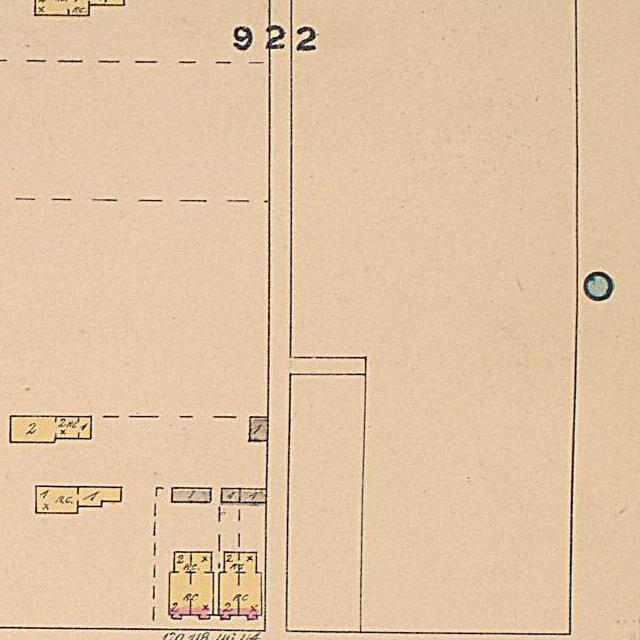building-footprints: (169, 552, 214, 619), (219, 552, 262, 619), (35, 486, 122, 513), (10, 416, 91, 442), (35, 0, 124, 16), (172, 488, 211, 502), (250, 417, 267, 441), (240, 488, 266, 503), (221, 488, 240, 502)
